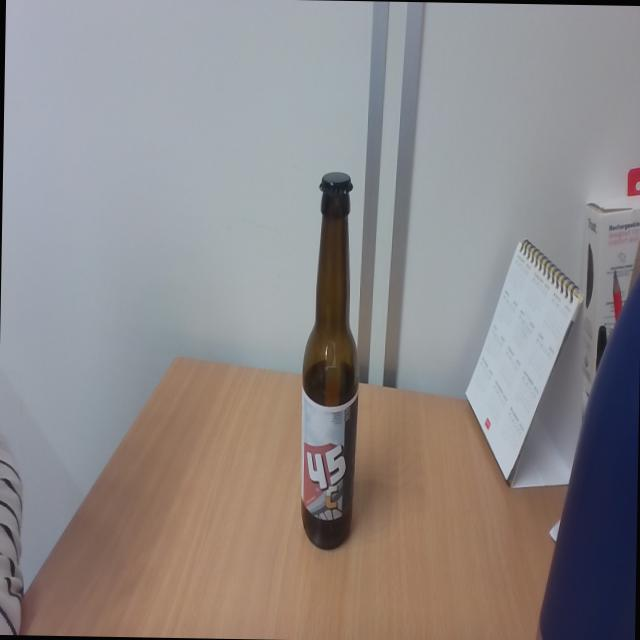Bottle: (300, 168, 362, 548)
Cap: (318, 169, 354, 199)
Label: (299, 402, 356, 522)
